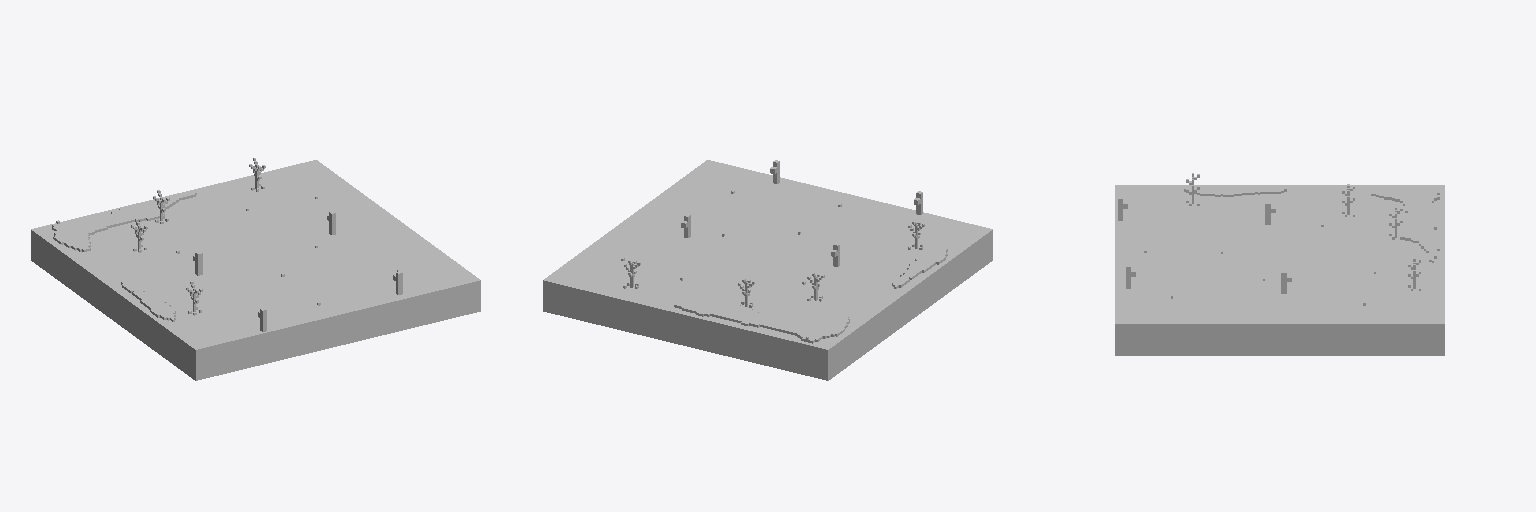
The model's file is Map (8).obj.
The picture shows the model from 3 angles: view 1: azimuth 30°, elevation 25°; view 2: azimuth 150°, elevation 25°; view 3: azimuth 270°, elevation 25°; orthographic projection.
Visible parts, largest first — view 1: ALL MAP!!!!!!!!!!!-5; view 2: ALL MAP!!!!!!!!!!!-5; view 3: ALL MAP!!!!!!!!!!!-5.
Part boxes in pixels (bbox=[...]): ALL MAP!!!!!!!!!!!-5: bbox=[31, 158, 480, 380]; ALL MAP!!!!!!!!!!!-5: bbox=[543, 160, 992, 380]; ALL MAP!!!!!!!!!!!-5: bbox=[1115, 173, 1444, 355].
Bounding box in the file's own units: 125 × 25 × 125.